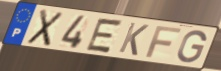4: (59, 14, 87, 50)
E: (83, 17, 125, 55)
F: (144, 24, 183, 59)
G: (175, 29, 208, 64)
K: (116, 21, 150, 58)
X: (25, 8, 66, 48)
